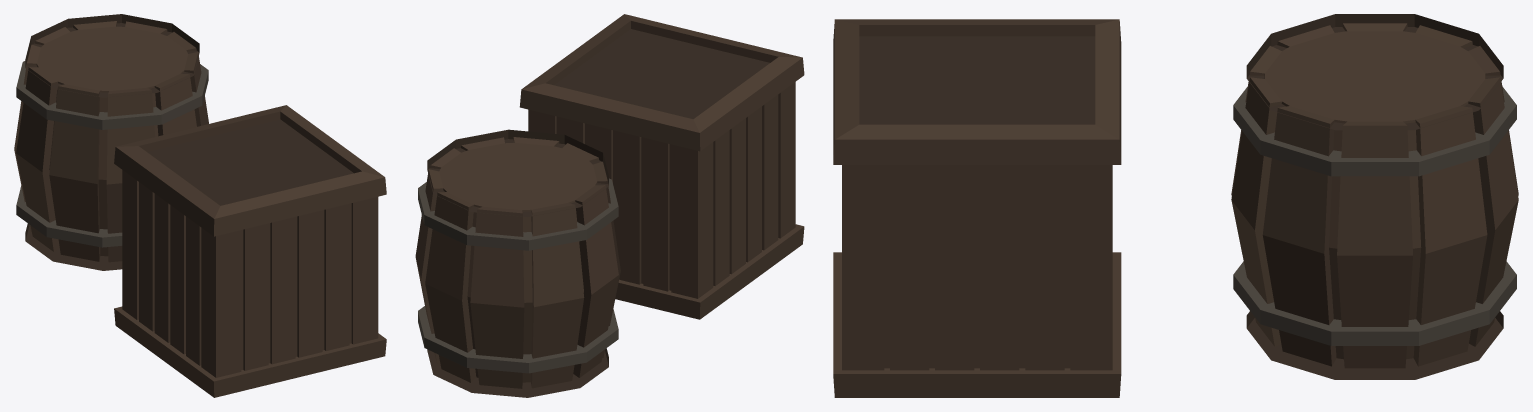
File: boxes.fbx
The picture shows the model from 3 angles, left to right: view 1: azimuth 30°, elevation 25°; view 2: azimuth 150°, elevation 25°; view 3: azimuth 270°, elevation 25°; orthographic projection. The views are drawn at different scales.
Visible parts, largest first — view 1: Cube.128, Cylinder.046, Circle.003, Circle.002; view 2: Cube.128, Cylinder.046, Circle.003, Circle.002; view 3: Cube.128, Cylinder.046, Circle.003, Circle.002.
Boxes of the visible parts, <box> form: Cube.128: <box>114,105,386,397</box>; Cylinder.046: <box>14,21,208,262</box>; Circle.003: <box>16,61,208,247</box>; Circle.002: <box>25,14,199,270</box>; Cube.128: <box>519,14,804,319</box>; Cylinder.046: <box>415,137,620,388</box>; Circle.003: <box>418,178,618,373</box>; Circle.002: <box>427,129,608,397</box>; Cube.128: <box>833,19,1121,397</box>; Cylinder.046: <box>1231,23,1518,368</box>; Circle.003: <box>1233,86,1516,345</box>; Circle.002: <box>1246,14,1503,379</box>.
Bounding box in the file's own units: 213 × 226 × 507.
